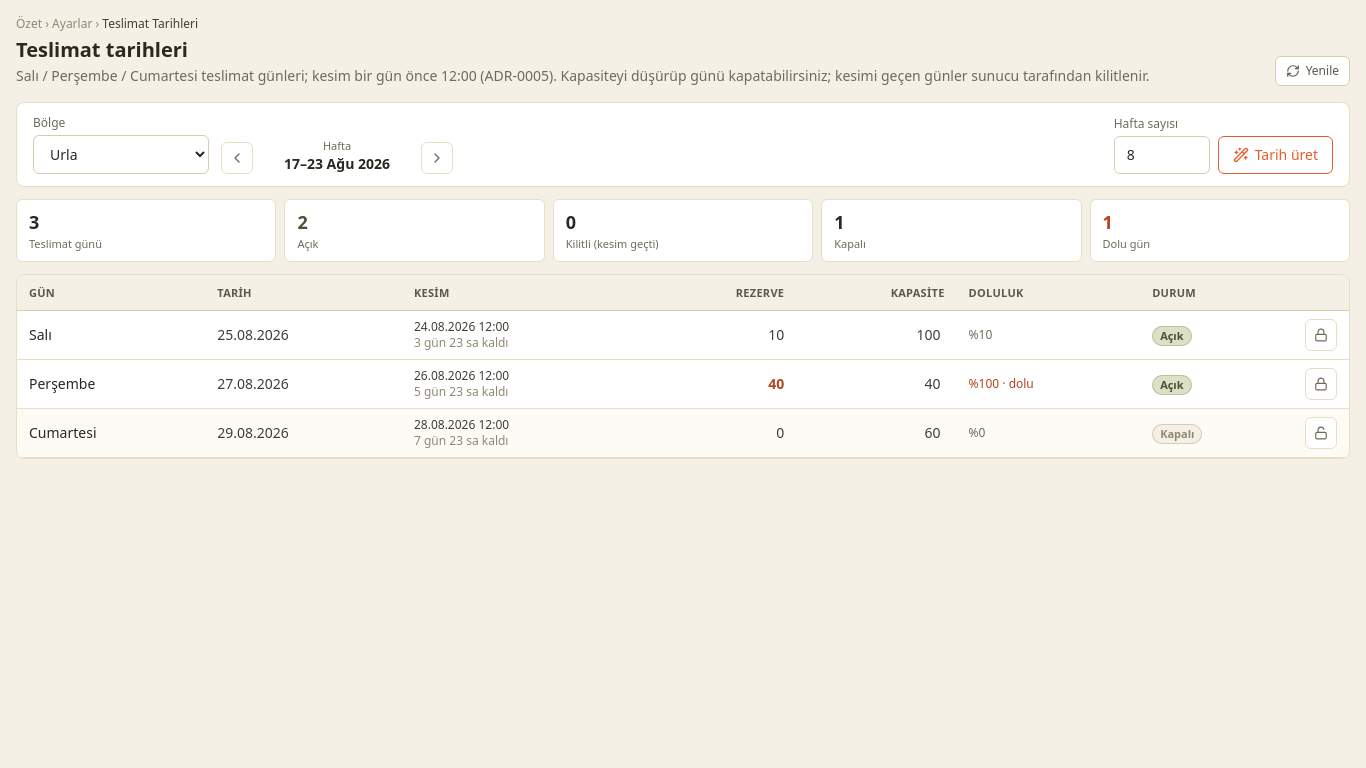
Test: AdminTeslimatTarihleriPage (ekran 14b) › kapalı günü açar (PATCH status=OPEN); rezervasyonlu günü kapatmak onay ister
Expected: the text "29.08.2026" is shown, [205,409,402,458]
Click the button named "29.08.2026 — Günü aç" at (1321,433), box [1305,417,1337,449]
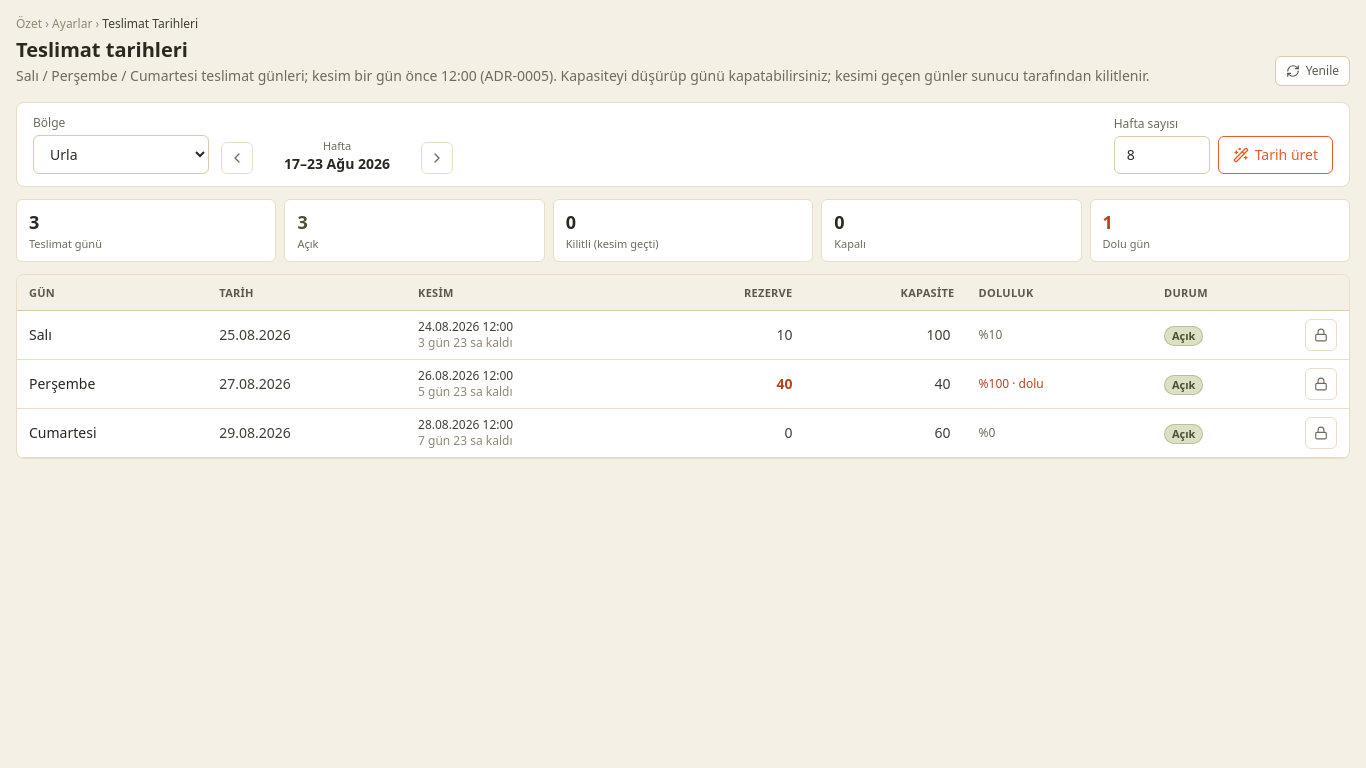
Rezervasyonu olan açık günü kapatmak onay diyaloğu açar
Click the button named "25.08.2026 — Günü kapat" at (1321,335), box [1305,319,1337,351]
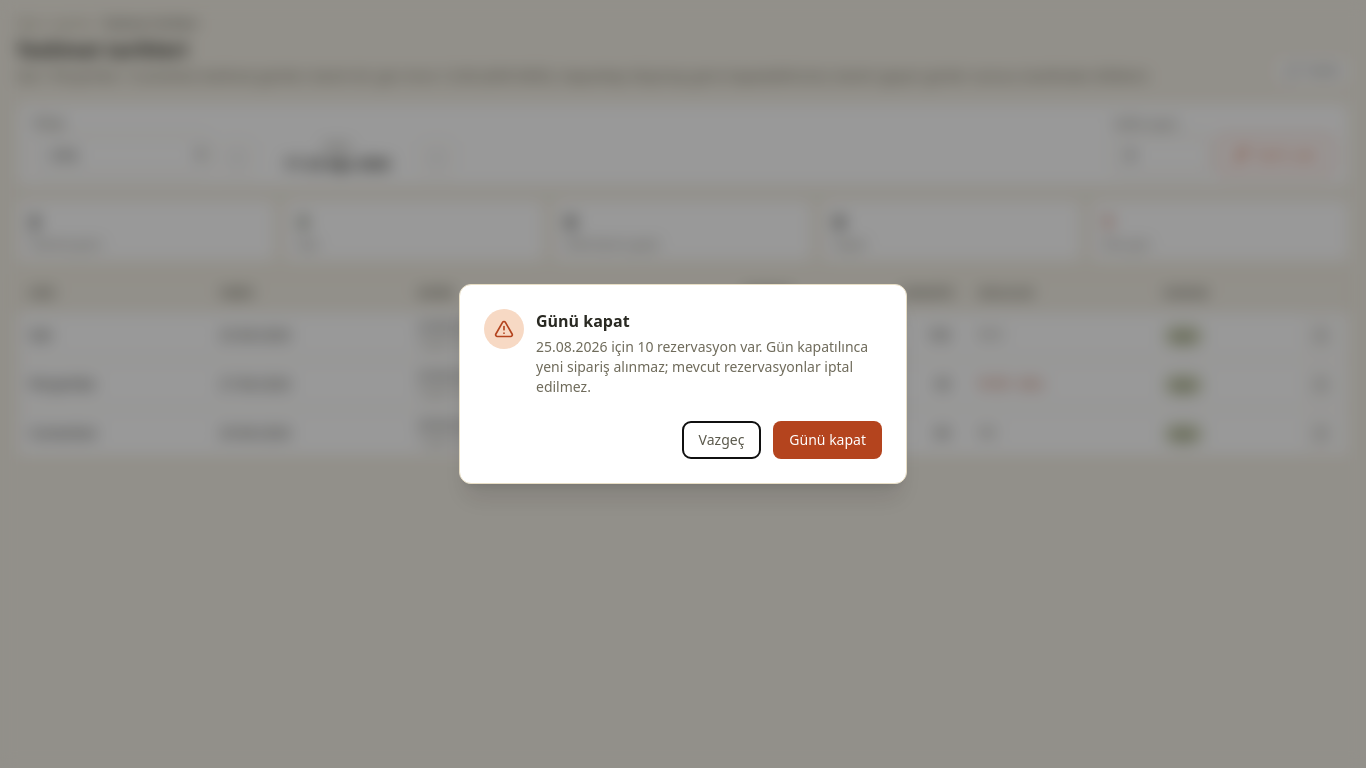
Now the text "10 rezervasyon var" is shown, box [536,337,868,396]
